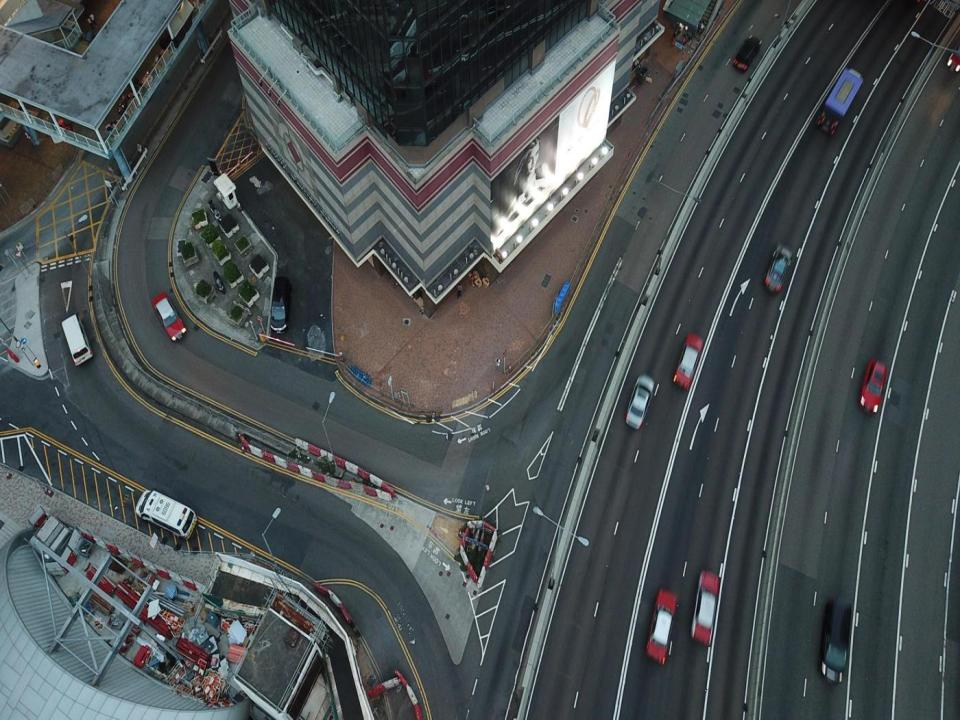bus: (818, 67, 864, 136)
car: (646, 588, 679, 664), (689, 571, 721, 647), (152, 292, 187, 344), (858, 356, 888, 414), (626, 375, 654, 430), (674, 332, 702, 387), (765, 242, 794, 292), (734, 36, 761, 71), (948, 34, 959, 75)
van: (135, 490, 198, 539), (819, 596, 854, 684), (60, 315, 94, 368), (271, 277, 291, 333)
